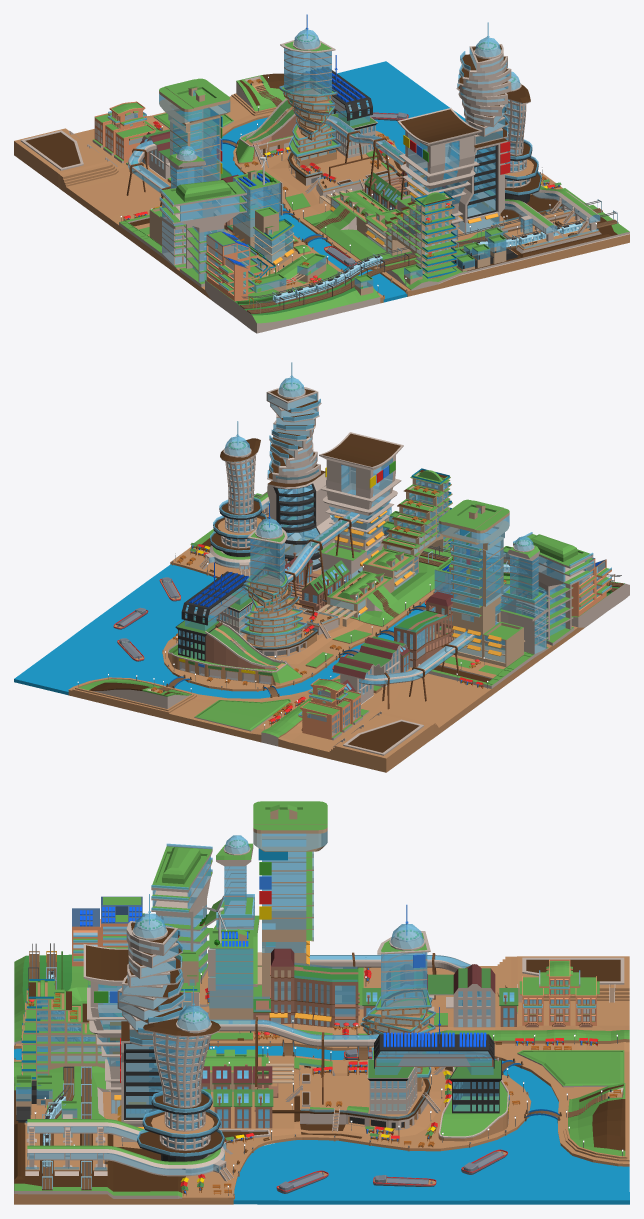
File: buildings_grouped_export_base_model.fbx
3 views of the same model, one above another, from view 1: azimuth 30°, elevation 25°; view 2: azimuth 150°, elevation 25°; view 3: azimuth 270°, elevation 25° (orthographic). The views are drawn at different scales.
Parts seen in each view (by area): view 1: Base_model; view 2: Base_model; view 3: Base_model.
Part boxes in pixels (<box>): Base_model: <box>14,14,629,333</box>; Base_model: <box>14,362,629,772</box>; Base_model: <box>14,801,629,1204</box>.
Bounding box in the file's own units: 20001 × 9920 × 21264.
